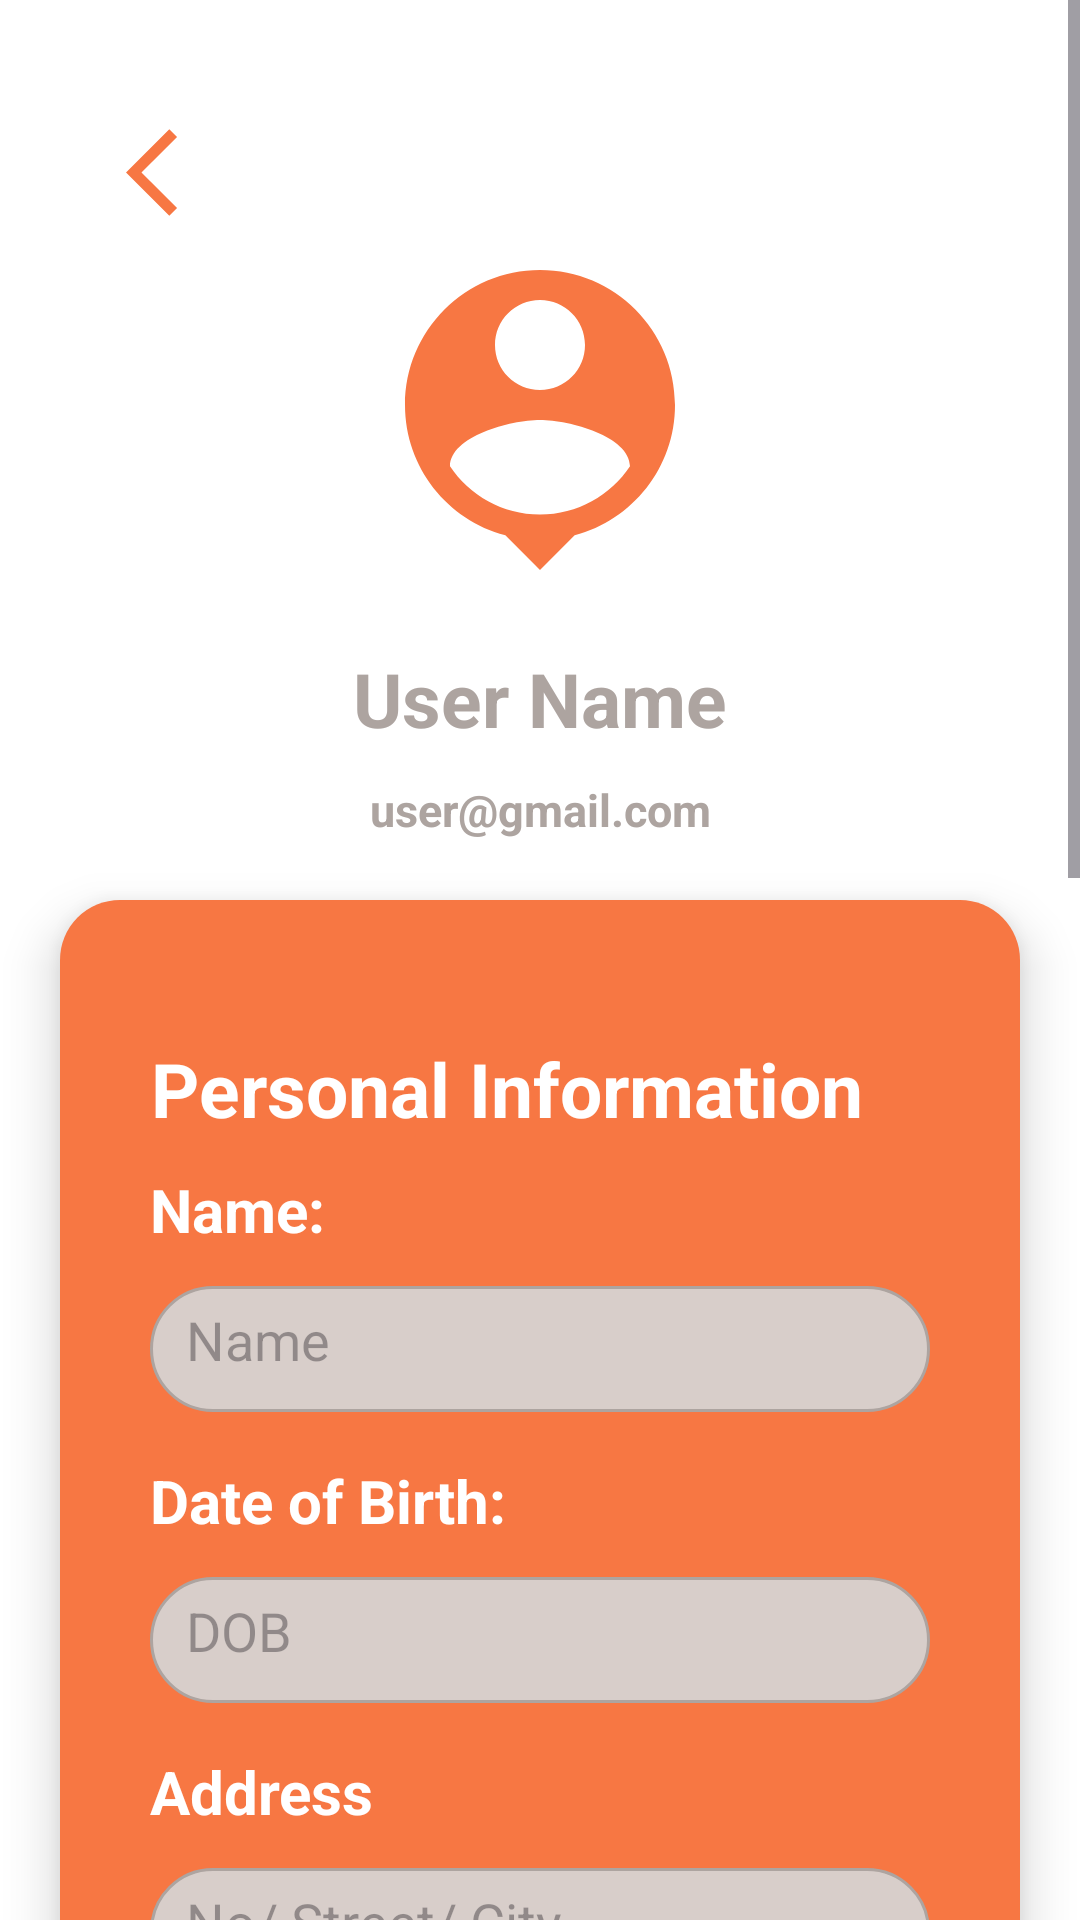

Icons on this 1080x1920 Android screen, each with its box as (x1, y1, x2, y2):
arrow back: (126, 129, 177, 216)
person pin: (405, 270, 675, 570)
